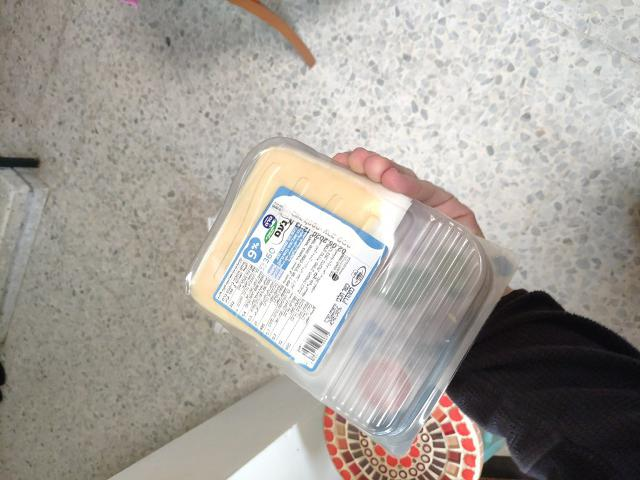cheese: (174, 160, 480, 426)
